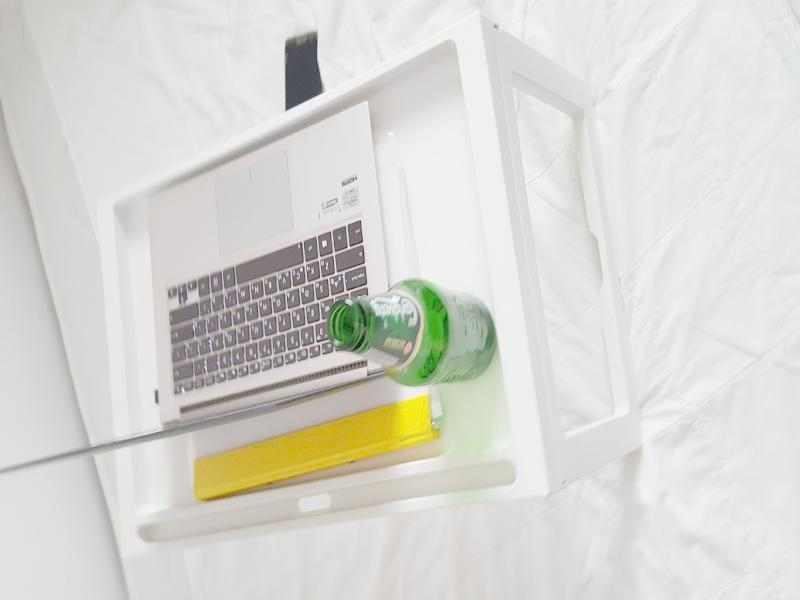Beer: (328, 280, 496, 385)
